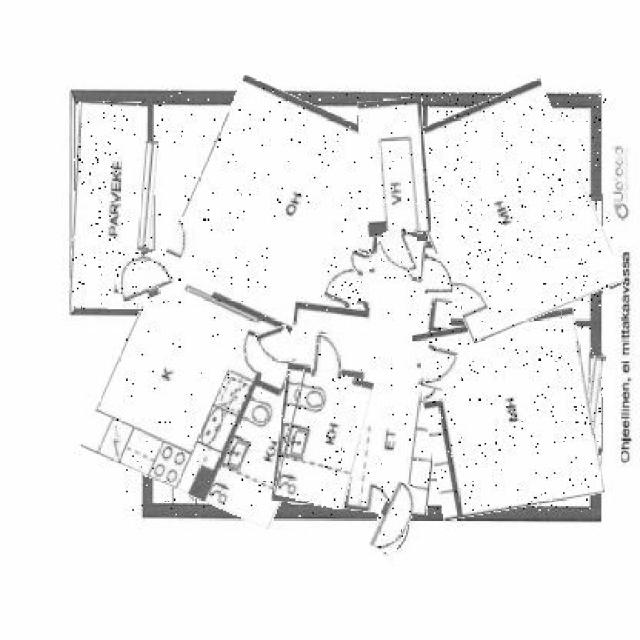door: (114, 252, 174, 303), (374, 481, 415, 554), (330, 248, 372, 308), (381, 231, 417, 280), (418, 346, 457, 391), (257, 328, 294, 369), (312, 336, 343, 378), (425, 254, 452, 294)
window: (578, 195, 612, 291), (136, 354, 158, 458), (140, 142, 157, 252), (586, 355, 603, 448)
zone: (117, 88, 397, 517), (280, 229, 451, 514), (408, 91, 608, 331), (420, 314, 598, 514), (72, 102, 145, 309), (282, 369, 368, 506), (360, 98, 429, 237)
